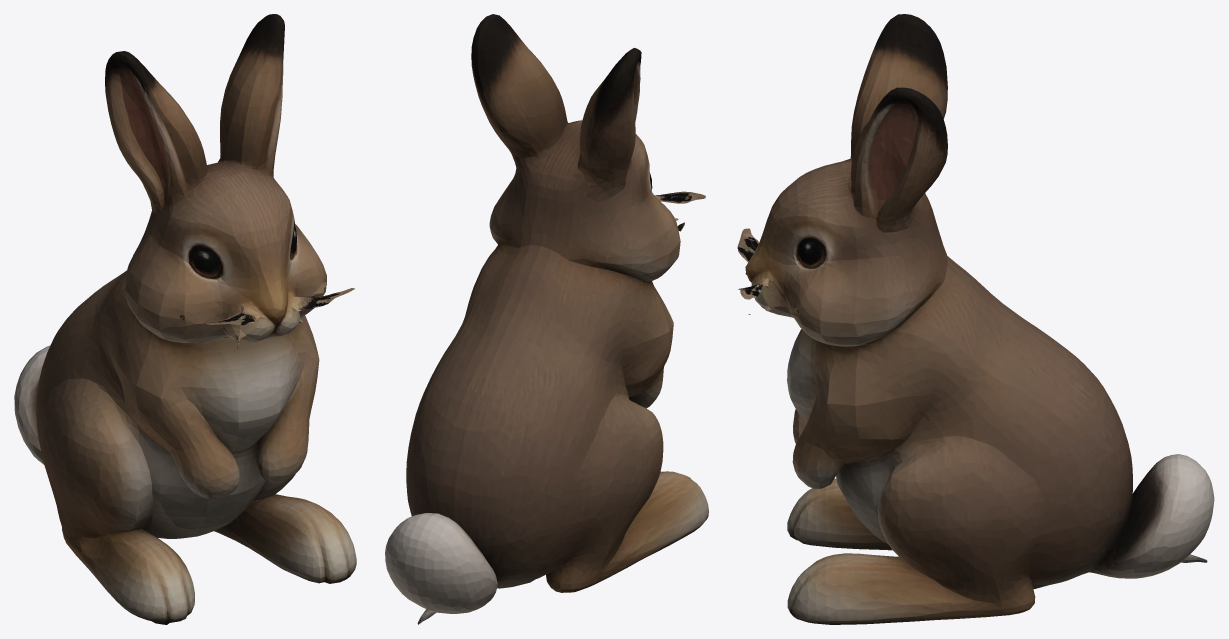
Rendered from snowshoe_hare.glb.
3 views of the same model, side by side, from view 1: azimuth 30°, elevation 25°; view 2: azimuth 150°, elevation 25°; view 3: azimuth 270°, elevation 25° (orthographic). The views are drawn at different scales.
Visible parts, largest first — view 1: world; view 2: world; view 3: world.
Boxes of the visible parts, box(x1,y1,x2,y2) form: world: box(14, 14, 356, 624); world: box(385, 14, 708, 624); world: box(737, 14, 1214, 624).
Bounding box in the file's own units: 0.4499 × 0.9991 × 0.8143.
Materials: 1 (1 with a texture image).
